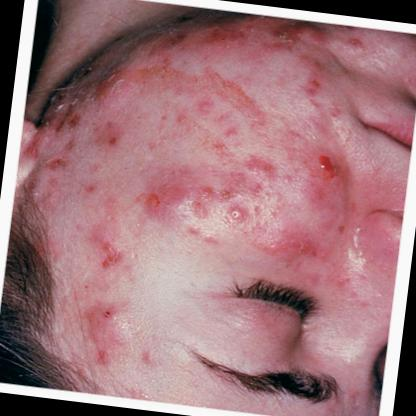Acne: (86, 232, 130, 278), (301, 145, 339, 188), (94, 296, 124, 332), (220, 196, 248, 229)
